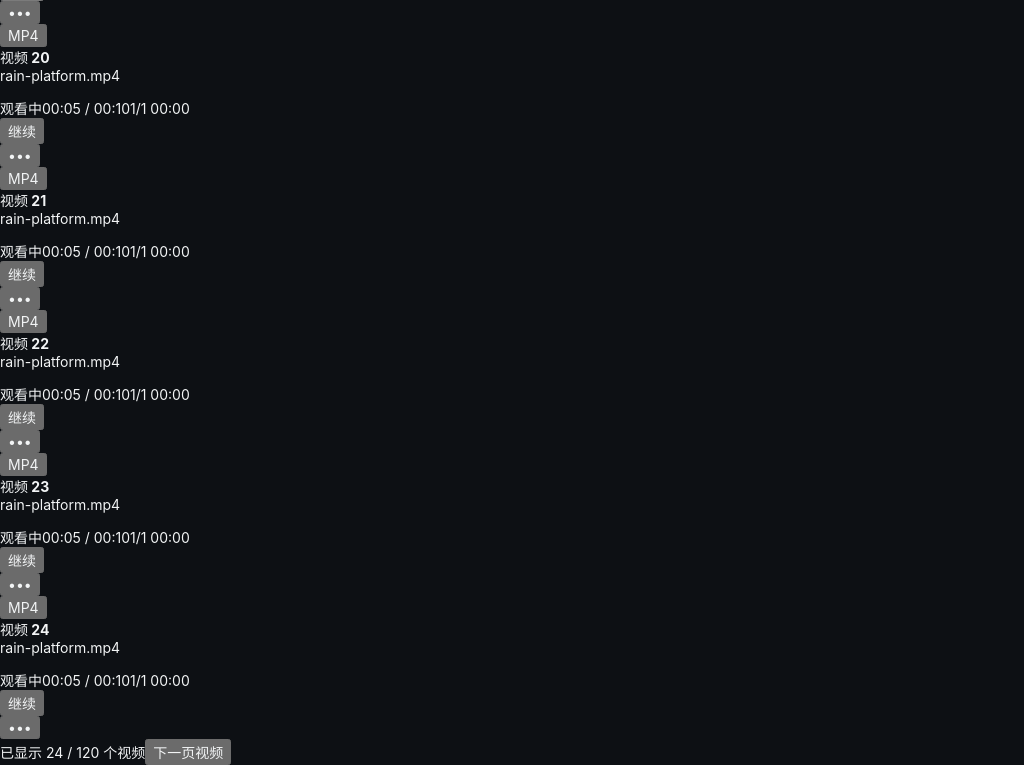
bounds 120 loaded media rows with keyboard page controls
(page scrolled)
Step 1. Click the button "下一页视频" → (188, 752), box left=145, top=739, right=231, bottom=764
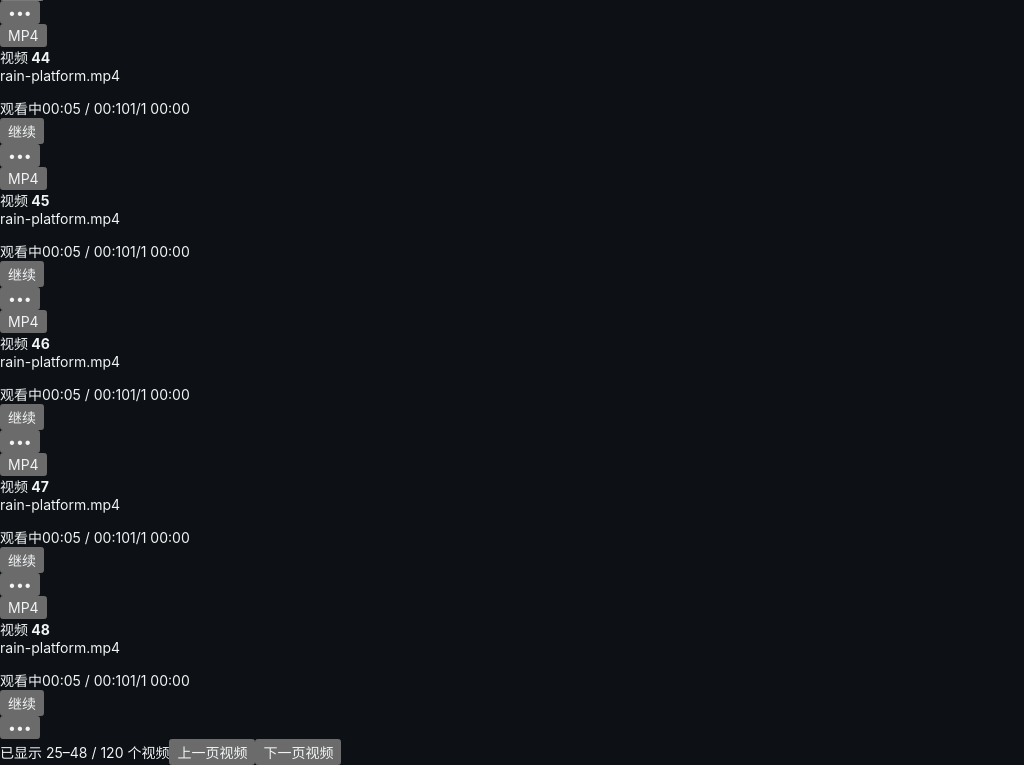
Step 2. Click the button "上一页视频" → (212, 752), box left=169, top=739, right=255, bottom=764
(page scrolled)
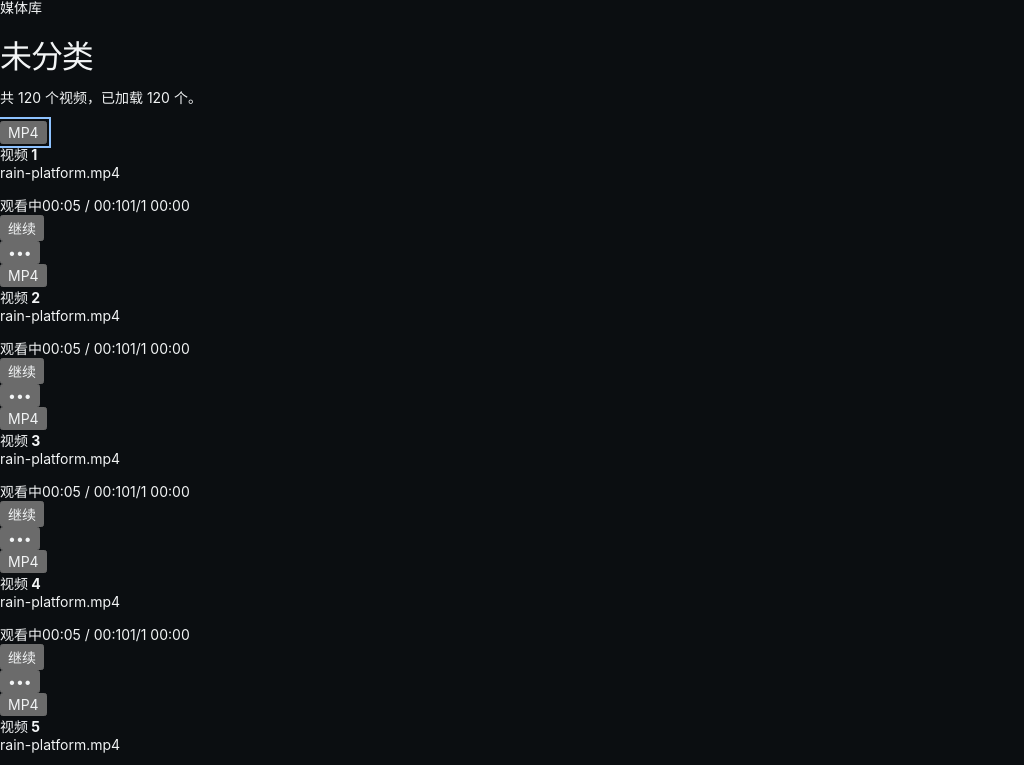
Expected: the text "视频 1" is shown, left=0, top=146, right=37, bottom=163
